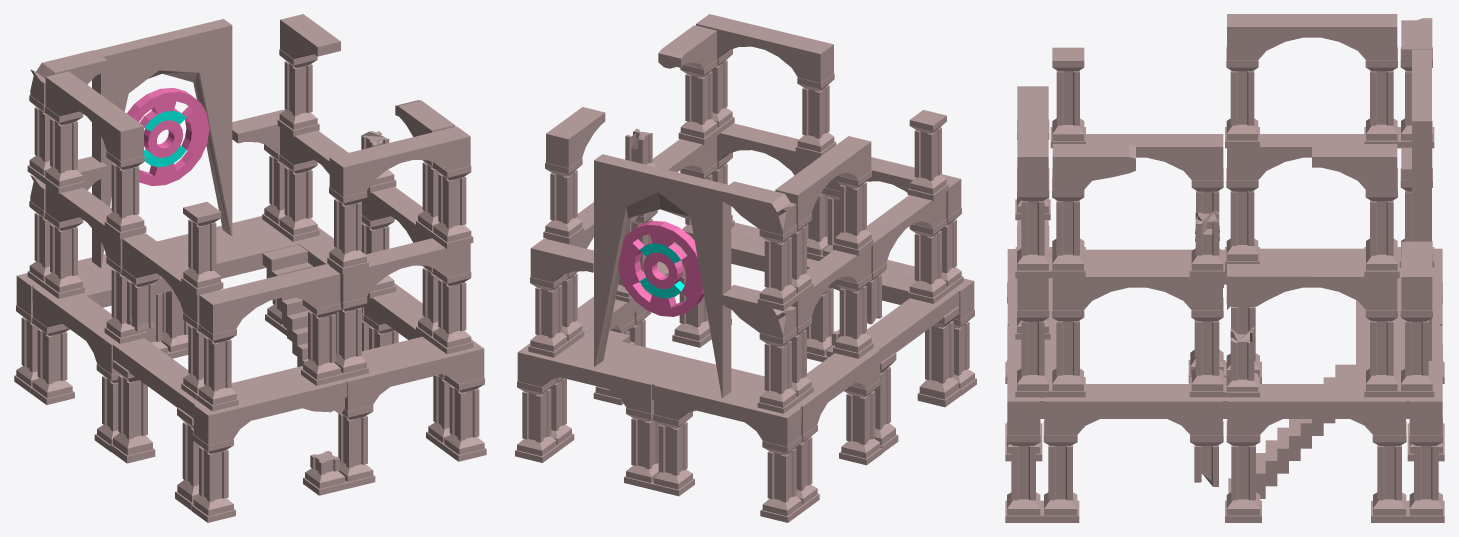
Rendered from flowerruintextured.fbx.
3 renders of one model, left to right at view 1: azimuth 30°, elevation 25°; view 2: azimuth 150°, elevation 25°; view 3: azimuth 270°, elevation 25°, orthographic. The views are drawn at different scales.
Visible parts, largest first — view 1: polySurface39; view 2: polySurface39; view 3: polySurface39.
Boxes of the visible parts, x1,y1,x2,y2 form: polySurface39: (14, 14, 486, 522); polySurface39: (515, 14, 976, 522); polySurface39: (1005, 14, 1444, 522).
Size of the model in its own units: 18.35 by 20.22 by 22.02.
